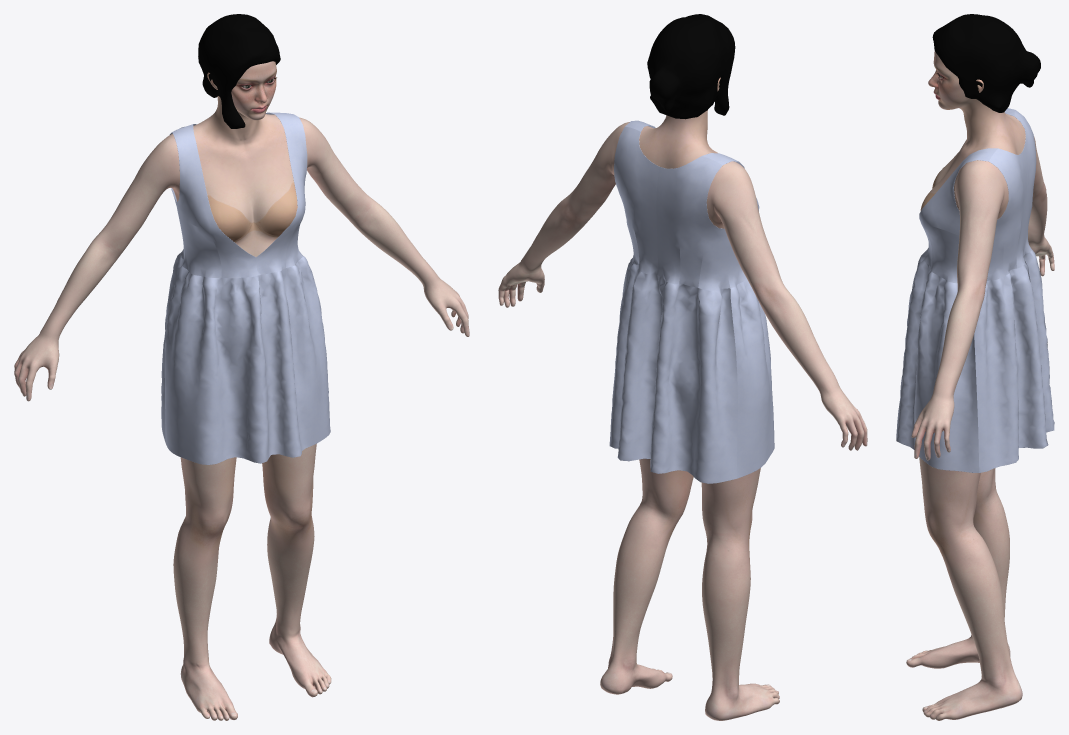
Rendered from Dramatic.obj.
3 renders of one model, left to right at view 1: azimuth 30°, elevation 25°; view 2: azimuth 150°, elevation 25°; view 3: azimuth 270°, elevation 25°, orthographic. The views are drawn at different scales.
Bounding box in the file's own units: 1100 × 1769 × 379.
